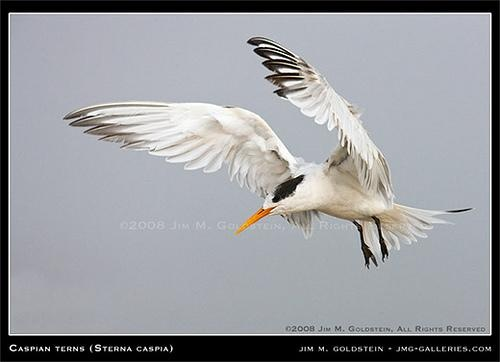bird: (59, 36, 473, 272)
